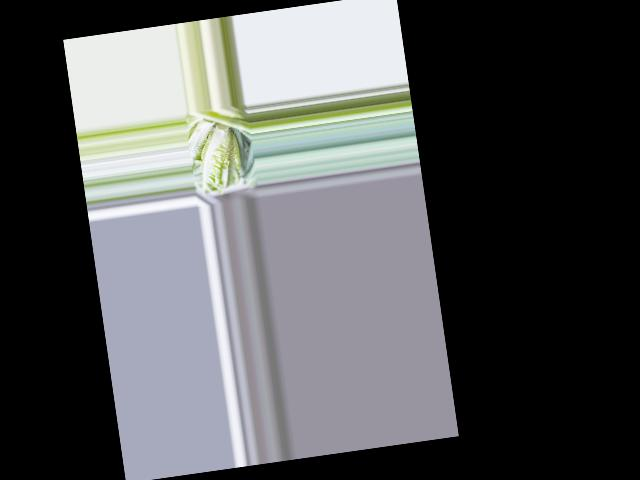lettuce: (193, 121, 245, 195)
